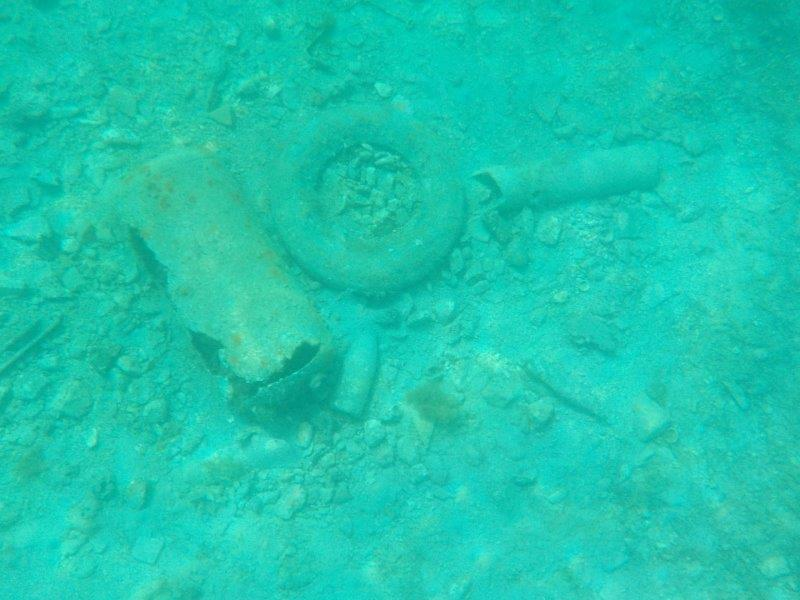bottle: (525, 343, 623, 433), (328, 319, 388, 426)
tire: (265, 101, 473, 300)
